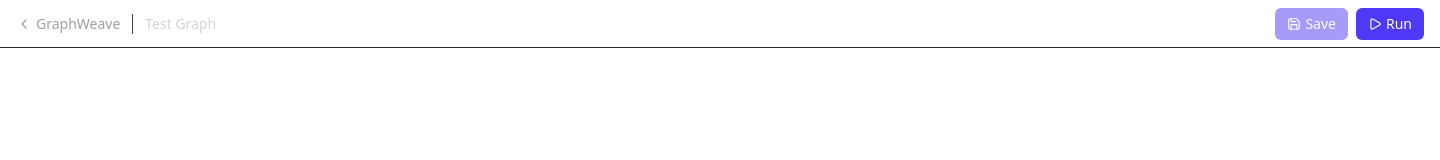
Test: CanvasHeader › clicking name enables inline edit mode
Click the button "Test Graph": {"x": 189, "y": 24} [145,14,232,34]
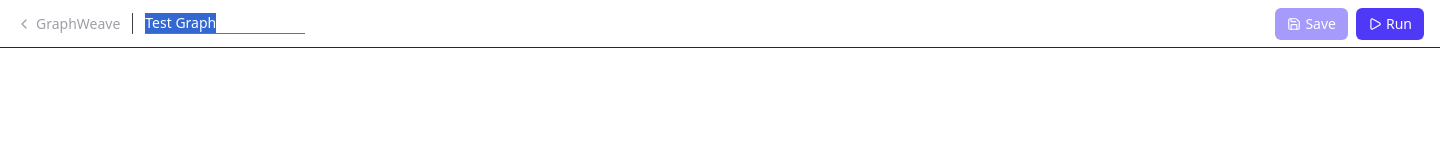
Expected: the field named "Graph name" is shown, [145,13,305,34]
